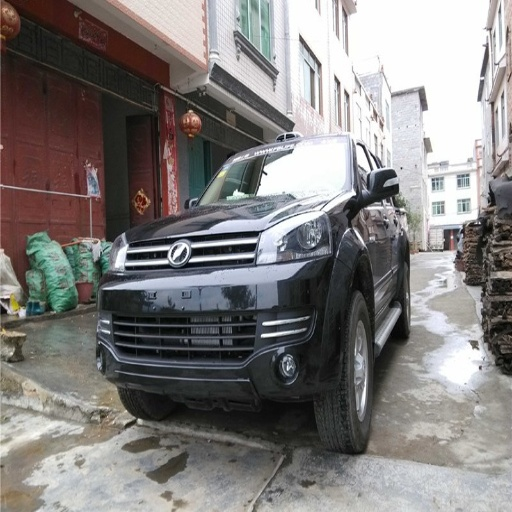front_bumper: (101, 227, 342, 399)
front_glass: (211, 142, 341, 197)
front_left_door: (357, 162, 402, 329)
